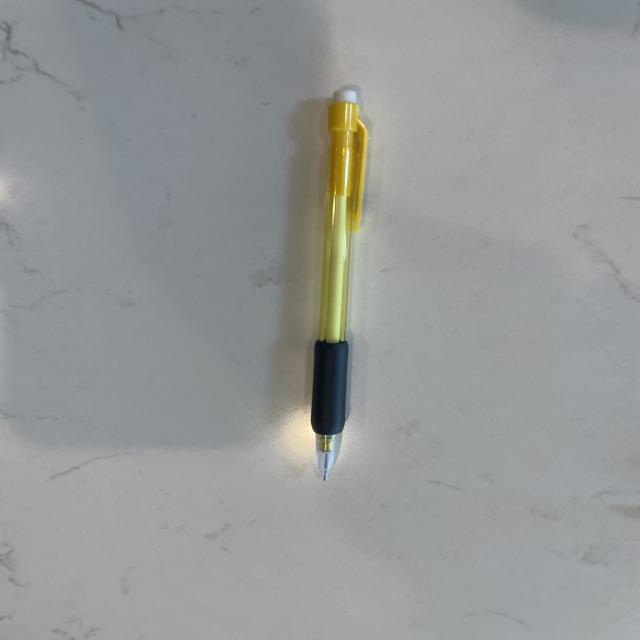mechanical-pencils: (308, 89, 368, 479)
